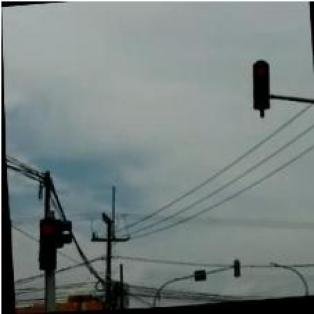Semaforo Rojo: (34, 219, 55, 271), (252, 62, 272, 112)
